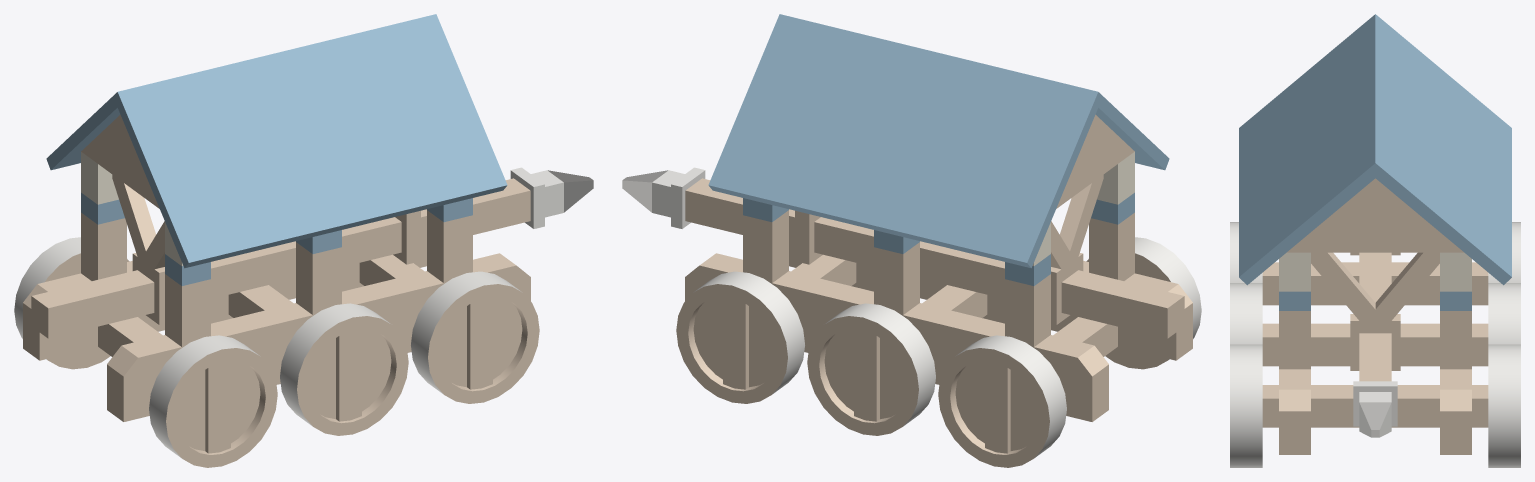
File: siegeRam.glb
3 renders of one model, left to right at view 1: azimuth 30°, elevation 25°; view 2: azimuth 150°, elevation 25°; view 3: azimuth 270°, elevation 25°, orthographic. The views are drawn at different scales.
Parts seen in each view (by area): view 1: body 7, ram 1, wheelBackRight 9, wheelFrontRight 12, wheelMidRight 2, wheelBackLeft 9; view 2: body 7, ram 1, wheelBackLeft 9, wheelFrontLeft 12, wheelMidLeft 2, wheelBackRight 9; view 3: body 7, ram 1, wheelFrontLeft 12, wheelFrontRight 12, wheelMidLeft 2, wheelMidRight 2, wheelBackLeft 9, wheelBackRight 9.
Part boxes in pixels (left/top/right/bottom): body 7: left=23, top=14, right=530, bottom=421; ram 1: left=31, top=167, right=593, bottom=338; wheelBackRight 9: left=149, top=335, right=277, bottom=467; wheelFrontRight 12: left=411, top=271, right=539, bottom=403; wheelMidRight 2: left=280, top=303, right=408, bottom=435; wheelBackLeft 9: left=14, top=237, right=129, bottom=369; body 7: left=685, top=14, right=1192, bottom=421; ram 1: left=622, top=167, right=1184, bottom=338; wheelBackLeft 9: left=938, top=335, right=1066, bottom=467; wheelFrontLeft 12: left=676, top=271, right=804, bottom=403; wheelMidLeft 2: left=807, top=303, right=935, bottom=435; wheelBackRight 9: left=1086, top=237, right=1201, bottom=369; body 7: left=1239, top=14, right=1511, bottom=454; ram 1: left=1353, top=252, right=1397, bottom=437; wheelFrontLeft 12: left=1488, top=344, right=1520, bottom=467; wheelFrontRight 12: left=1230, top=344, right=1262, bottom=467; wheelMidLeft 2: left=1488, top=283, right=1520, bottom=344; wheelMidRight 2: left=1230, top=283, right=1262, bottom=344; wheelBackLeft 9: left=1488, top=222, right=1520, bottom=283; wheelBackRight 9: left=1230, top=222, right=1262, bottom=283.
Size of the model in its own units: 19.87 by 11.22 by 9.47.
